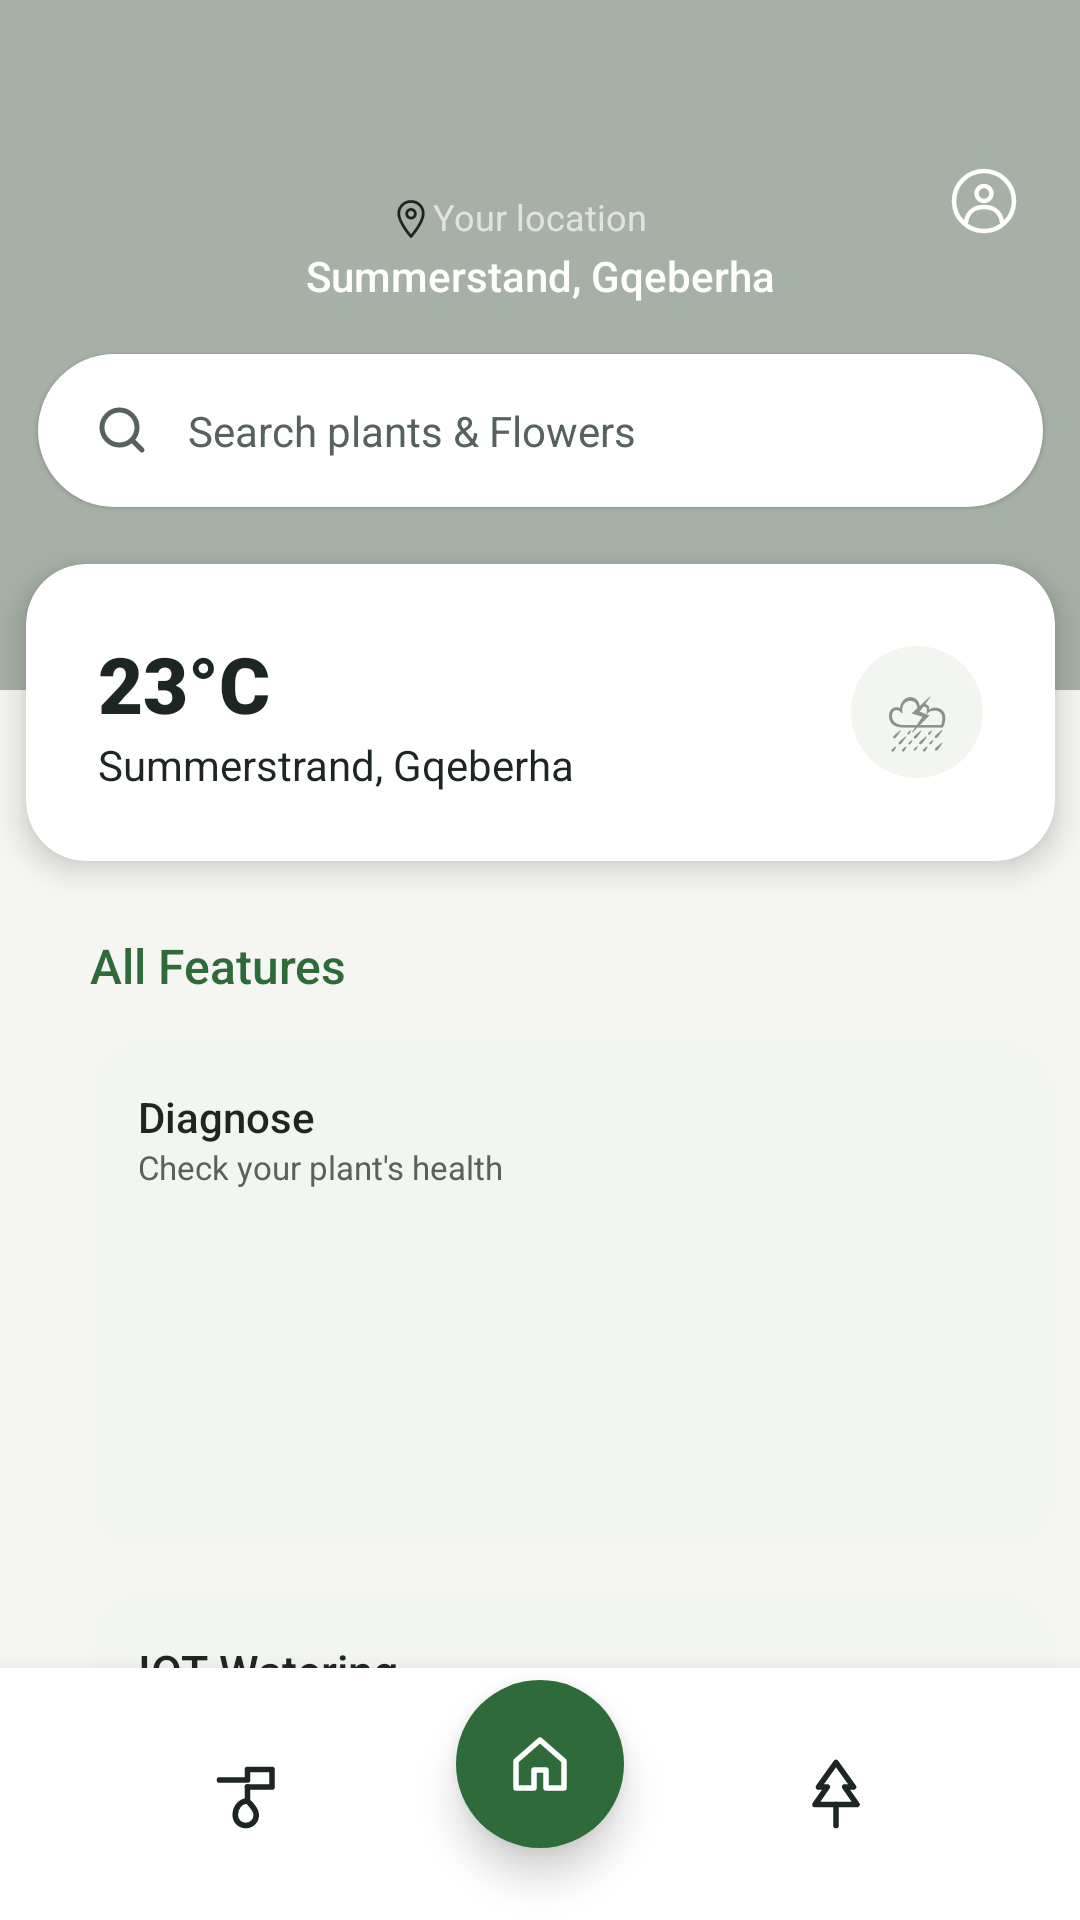

Screen size 1080 x 1920. Icon name, then its center in pixels as point (x, y):
Home: point (540, 1764)
Profile: point (984, 201)
Valve control: point (245, 1797)
